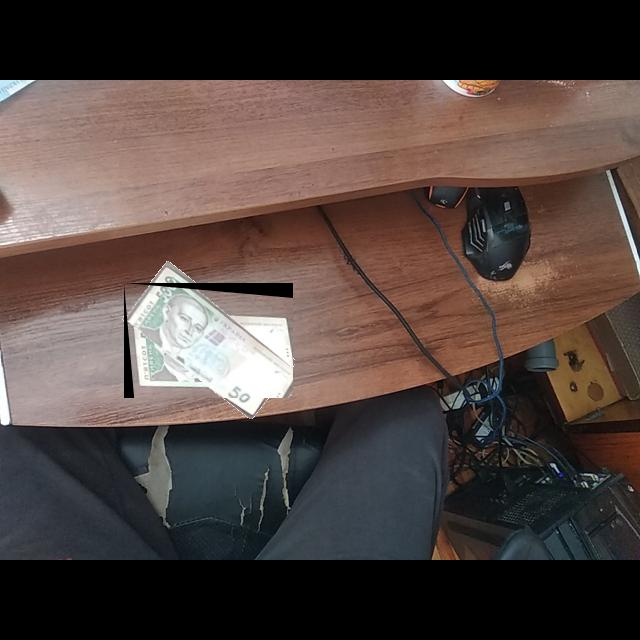500uah: (124, 283, 294, 399)
